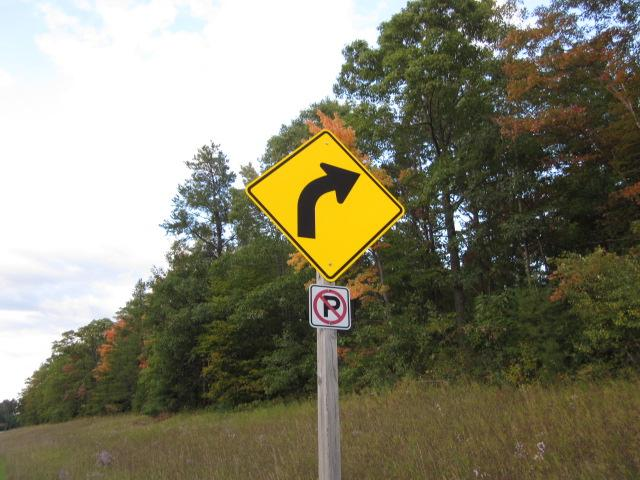regulatory: (308, 283, 357, 335)
warning: (245, 129, 405, 278)
